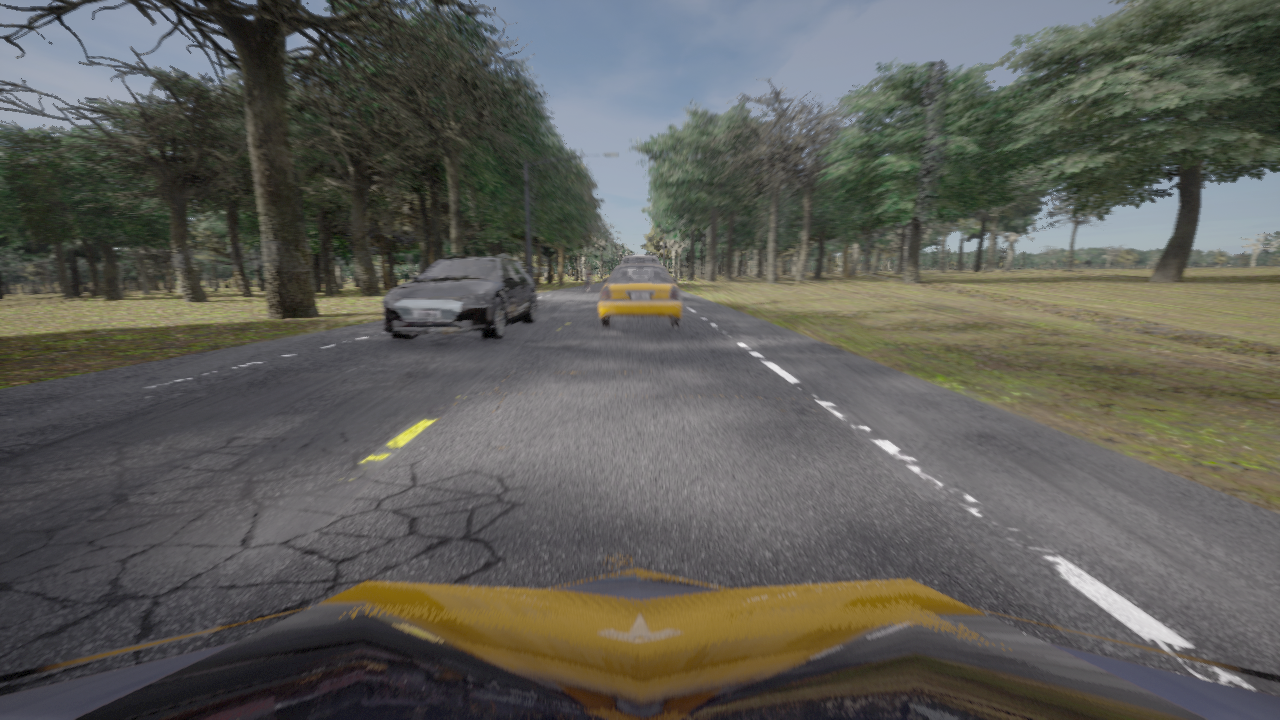cyclist: (0, 569, 1279, 719), (382, 254, 537, 340), (599, 258, 680, 327), (620, 256, 658, 265), (587, 281, 590, 289)
